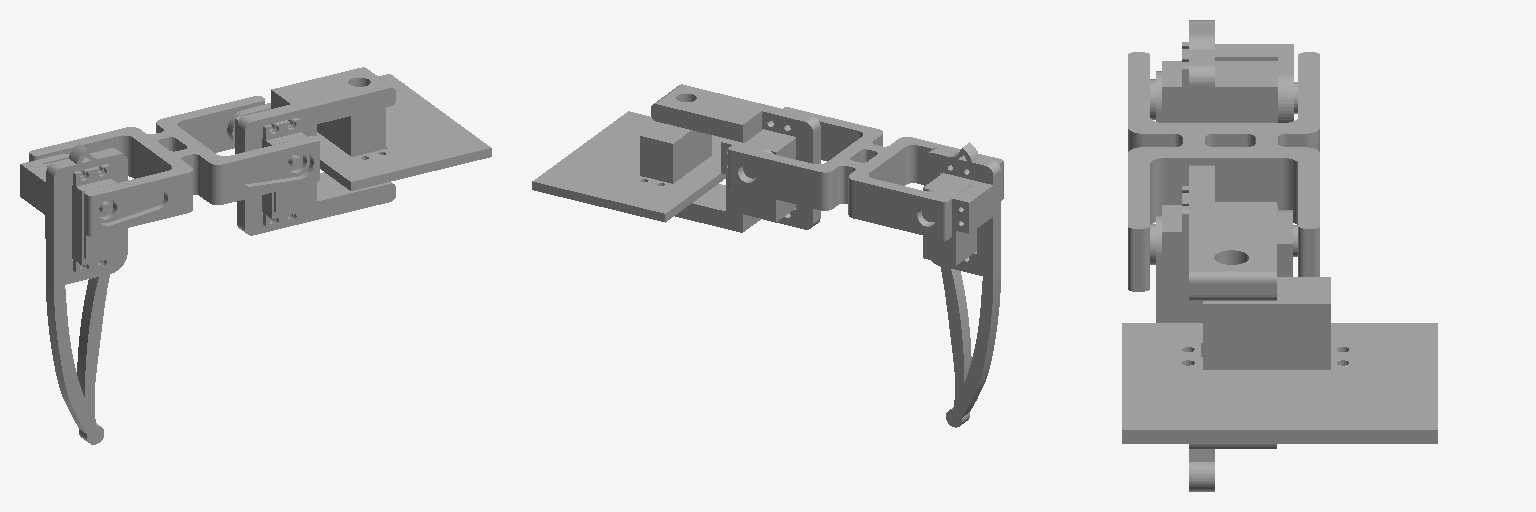
URDF robot description (final_simulation_v4):
<?xml version="1.0" ?>
<!-- =================================================================================== -->
<!-- |    This document was autogenerated by xacro from final_simulation_v4.xacro      | -->
<!-- |    EDITING THIS FILE BY HAND IS NOT RECOMMENDED                                 | -->
<!-- =================================================================================== -->
<robot name="final_simulation_v4">
  <material name="silver">
    <color rgba="0.700 0.700 0.700 1.000"/>
  </material>
  <transmission name="Revolute 1_tran">
    <type>transmission_interface/SimpleTransmission</type>
    <joint name="Revolute 1">
      <hardwareInterface>hardware_interface/EffortJointInterface</hardwareInterface>
    </joint>
    <actuator name="Revolute 1_actr">
      <hardwareInterface>hardware_interface/EffortJointInterface</hardwareInterface>
      <mechanicalReduction>1</mechanicalReduction>
    </actuator>
  </transmission>
  <transmission name="Revolute 2_tran">
    <type>transmission_interface/SimpleTransmission</type>
    <joint name="Revolute 2">
      <hardwareInterface>hardware_interface/EffortJointInterface</hardwareInterface>
    </joint>
    <actuator name="Revolute 2_actr">
      <hardwareInterface>hardware_interface/EffortJointInterface</hardwareInterface>
      <mechanicalReduction>1</mechanicalReduction>
    </actuator>
  </transmission>
  <transmission name="Revolute 3_tran">
    <type>transmission_interface/SimpleTransmission</type>
    <joint name="Revolute 3">
      <hardwareInterface>hardware_interface/EffortJointInterface</hardwareInterface>
    </joint>
    <actuator name="Revolute 3_actr">
      <hardwareInterface>hardware_interface/EffortJointInterface</hardwareInterface>
      <mechanicalReduction>1</mechanicalReduction>
    </actuator>
  </transmission>
  <gazebo>
    <plugin filename="libgazebo_ros_control.so" name="control"/>
  </gazebo>
  <gazebo reference="base_link">
    <material>Gazebo/Silver</material>
    <mu1>0.2</mu1>
    <mu2>0.2</mu2>
    <selfCollide>true</selfCollide>
    <gravity>true</gravity>
  </gazebo>
  <gazebo reference="coxa_1">
    <material>Gazebo/Silver</material>
    <mu1>0.2</mu1>
    <mu2>0.2</mu2>
    <selfCollide>true</selfCollide>
  </gazebo>
  <gazebo reference="femur_v2_1">
    <material>Gazebo/Silver</material>
    <mu1>0.2</mu1>
    <mu2>0.2</mu2>
    <selfCollide>true</selfCollide>
  </gazebo>
  <gazebo reference="tibia_1">
    <material>Gazebo/Silver</material>
    <mu1>0.2</mu1>
    <mu2>0.2</mu2>
    <selfCollide>true</selfCollide>
  </gazebo>
  <link name="base_link">
    <inertial>
      <origin rpy="0 0 0" xyz="0.03392615680744438 0.04828024958793435 0.005334233287975352"/>
      <mass value="0.5276626997913985"/>
      <inertia ixx="0.000329" ixy="-8e-06" ixz="1.3e-05" iyy="0.000239" iyz="3e-06" izz="0.000496"/>
    </inertial>
    <visual>
      <origin rpy="0 0 0" xyz="0 0 0"/>
      <geometry>
        <mesh filename="../meshes/base_link.stl" scale="0.001 0.001 0.001"/>
      </geometry>
      <material name="silver"/>
    </visual>
    <collision>
      <origin rpy="0 0 0" xyz="0 0 0"/>
      <geometry>
        <mesh filename="../meshes/base_link.stl" scale="0.001 0.001 0.001"/>
      </geometry>
    </collision>
  </link>
  <link name="coxa_1">
    <inertial>
      <origin rpy="0 0 0" xyz="-0.038701397339333886 -0.0018989630223521167 0.021945274355698992"/>
      <mass value="0.6382038528604967"/>
      <inertia ixx="0.000293" ixy="-2.9e-05" ixz="-3e-06" iyy="0.000491" iyz="-5e-06" izz="0.000335"/>
    </inertial>
    <visual>
      <origin rpy="0 0 0" xyz="-0.025 -0.034751 0.01255"/>
      <geometry>
        <mesh filename="../meshes/coxa_1.stl" scale="0.001 0.001 0.001"/>
      </geometry>
      <material name="silver"/>
    </visual>
    <collision>
      <origin rpy="0 0 0" xyz="-0.025 -0.034751 0.01255"/>
      <geometry>
        <mesh filename="../meshes/coxa_1.stl" scale="0.001 0.001 0.001"/>
      </geometry>
    </collision>
  </link>
  <link name="femur_v2_1">
    <inertial>
      <origin rpy="0 0 0" xyz="-0.053999831338292587 0.025085372227914567 -2.938162444246495e-08"/>
      <mass value="0.4089318698446209"/>
      <inertia ixx="0.000226" ixy="0.0" ixz="-0.0" iyy="0.000392" iyz="-0.0" izz="0.000582"/>
    </inertial>
    <visual>
      <origin rpy="0 0 0" xyz="0.0275 -0.008801 -0.019699"/>
      <geometry>
        <mesh filename="../meshes/femur_v2_1.stl" scale="0.001 0.001 0.001"/>
      </geometry>
      <material name="silver"/>
    </visual>
    <collision>
      <origin rpy="0 0 0" xyz="0.0275 -0.008801 -0.019699"/>
      <geometry>
        <mesh filename="../meshes/femur_v2_1.stl" scale="0.001 0.001 0.001"/>
      </geometry>
    </collision>
  </link>
  <link name="tibia_1">
    <inertial>
      <origin rpy="0 0 0" xyz="-0.0019242581351224253 0.021005363887968212 -0.021396411112111616"/>
      <mass value="0.47890735770784093"/>
      <inertia ixx="0.000547" ixy="5e-06" ixz="-9e-06" iyy="0.00054" iyz="-3.3e-05" izz="9.5e-05"/>
    </inertial>
    <visual>
      <origin rpy="0 0 0" xyz="0.1355 -0.008801 -0.019699"/>
      <geometry>
        <mesh filename="../meshes/tibia_1.stl" scale="0.001 0.001 0.001"/>
      </geometry>
      <material name="silver"/>
    </visual>
    <collision>
      <origin rpy="0 0 0" xyz="0.1355 -0.008801 -0.019699"/>
      <geometry>
        <mesh filename="../meshes/tibia_1.stl" scale="0.001 0.001 0.001"/>
      </geometry>
    </collision>
  </link>
  <joint name="Revolute 1" type="revolute">
    <origin rpy="0 0 0" xyz="0.025 0.034751 -0.01255"/>
    <parent link="base_link"/>
    <child link="coxa_1"/>
    <axis xyz="0.0 -0.0 1.0"/>
    <limit effort="100" lower="-0.349066" upper="0.349066" velocity="100"/>
  </joint>
  <joint name="Revolute 2" type="revolute">
    <origin rpy="0 0 0" xyz="-0.0525 -0.02595 0.032249"/>
    <parent link="coxa_1"/>
    <child link="femur_v2_1"/>
    <axis xyz="-0.0 1.0 0.0"/>
    <limit effort="100" lower="-0.785398" upper="1.570796" velocity="100"/>
  </joint>
  <joint name="Revolute 3" type="revolute">
    <origin rpy="0 0 0" xyz="-0.108 0.0 0.0"/>
    <parent link="femur_v2_1"/>
    <child link="tibia_1"/>
    <axis xyz="-0.0 -1.0 -0.0"/>
    <limit effort="100" lower="-1.570796" upper="0.785398" velocity="100"/>
  </joint>

  <link name="foot_link">
    <inertial>
      <mass value="0.01"/>
      <inertia ixx="0.0001" iyy="0.0001" izz="0.0001" ixy="0" iyz="0" ixz="0"/>
    </inertial>
  </link>
  <joint name="foot_joint" type="fixed">
    <parent link="tibia_1"/>
    <child link="foot_link"/>
    <origin xyz="0.130775 0 0" rpy="0 0 0"/>
  </joint>
</robot>

--- What the picture shows (computed from the rendered views, not written in the file) ---
The picture shows the robot from 3 angles, left to right: view 1: azimuth 30°, elevation 25°; view 2: azimuth 150°, elevation 25°; view 3: azimuth 270°, elevation 25°; orthographic projection.
Model final_simulation_v4 with 5 links and 4 joints (3 revolute, 1 fixed), rooted at base_link, posed every joint at zero.
Links seen in each view (by area): view 1: femur_v2_1, tibia_1, coxa_1, base_link; view 2: femur_v2_1, tibia_1, base_link, coxa_1; view 3: base_link, femur_v2_1, coxa_1, tibia_1.
Link boxes in pixels (bbox=[...]): femur_v2_1: bbox=[29, 96, 319, 236]; tibia_1: bbox=[20, 143, 127, 444]; coxa_1: bbox=[227, 67, 395, 235]; base_link: bbox=[267, 74, 491, 190]; femur_v2_1: bbox=[728, 107, 1003, 240]; tibia_1: bbox=[921, 142, 1000, 427]; base_link: bbox=[532, 111, 725, 222]; coxa_1: bbox=[651, 84, 820, 232]; base_link: bbox=[1122, 277, 1437, 443]; femur_v2_1: bbox=[1128, 52, 1319, 291]; coxa_1: bbox=[1150, 165, 1297, 448]; tibia_1: bbox=[1150, 20, 1297, 491].
Bounding box of the posed robot: 0.2365 × 0.1 × 0.1617 m (x, y, z).
Meshes: 4 distinct files referenced, 4 mesh visuals loaded (4 binary STL).
